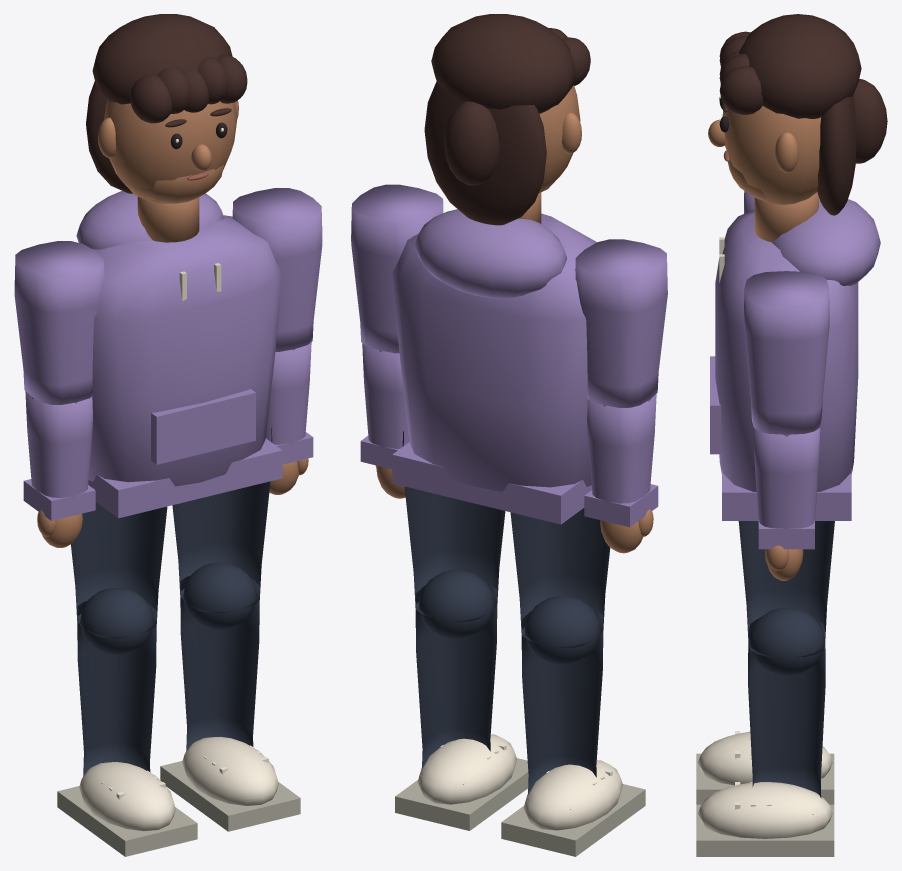
File: customer-female.glb
The picture shows the model from 3 angles, left to right: view 1: azimuth 30°, elevation 25°; view 2: azimuth 150°, elevation 25°; view 3: azimuth 270°, elevation 25°; orthographic projection. The views are drawn at different scales.
Visible parts, largest first — view 1: Hoodie, Upper sleeve, Trouser shin.001, Trouser shin, Upper sleeve.001, Trouser thigh, Head, Trouser thigh.001, Hair, Lower sleeve, Hoodie pocket, Hoodie hem (+21 smaller); view 2: Hoodie, Upper sleeve, Hair, Hood, Long hair, Trouser shin.001, Trouser shin, Upper sleeve.001, Trouser thigh, Trouser thigh.001, Lower sleeve, Hoodie hem (+14 smaller); view 3: Hoodie, Upper sleeve.001, Hair, Trouser shin.001, Head, Sneaker.001, Trouser thigh.001, Lower sleeve.001, Hood, Knee joint.001, Long hair, Shoe sole.001 (+13 smaller).
Boxes of the visible parts, x1,y1,x2,y2 form: Hoodie: [88, 215, 281, 486]; Upper sleeve: [14, 241, 104, 404]; Trouser shin.001: [180, 576, 259, 751]; Trouser shin: [77, 601, 156, 776]; Upper sleeve.001: [232, 188, 322, 351]; Trouser thigh: [71, 502, 167, 638]; Head: [104, 99, 237, 203]; Trouser thigh.001: [172, 427, 272, 613]; Hair: [92, 14, 232, 104]; Lower sleeve: [25, 391, 92, 499]; Hoodie pocket: [151, 389, 255, 464]; Hoodie hem: [88, 438, 282, 518]; Hoodie: [392, 213, 596, 491]; Upper sleeve: [575, 239, 667, 407]; Hair: [431, 14, 576, 113]; Hood: [415, 209, 567, 298]; Long hair: [424, 81, 546, 225]; Trouser shin.001: [415, 583, 497, 784]; Trouser shin: [521, 609, 603, 809]; Upper sleeve.001: [351, 184, 443, 353]; Trouser thigh: [510, 508, 610, 647]; Trouser thigh.001: [402, 431, 505, 622]; Lower sleeve: [587, 394, 656, 504]; Hoodie hem: [392, 442, 591, 524]; Hoodie: [715, 210, 858, 491]; Upper sleeve.001: [744, 271, 829, 434]; Hair: [739, 14, 861, 118]; Trouser shin.001: [748, 619, 825, 814]; Head: [722, 106, 821, 204]; Sneaker.001: [698, 782, 832, 838]; Trouser thigh.001: [738, 521, 834, 657]; Lower sleeve.001: [753, 426, 820, 528]; Hood: [772, 198, 880, 285]; Knee joint.001: [748, 608, 825, 675]; Long hair: [817, 94, 856, 215]; Shoe sole.001: [696, 804, 834, 856].
Size of the model in its own units: 0.762 by 1.95 by 0.427.
